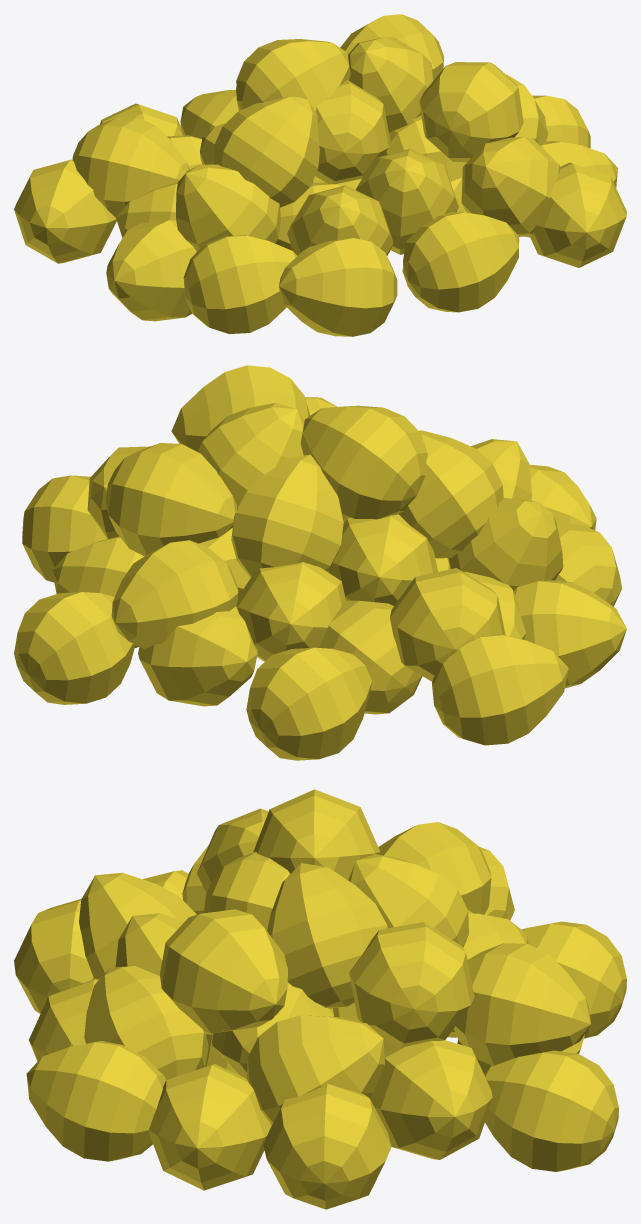
File: popcorn_v1.glb
3 renders of one model, top to bottom at view 1: azimuth 30°, elevation 25°; view 2: azimuth 150°, elevation 25°; view 3: azimuth 270°, elevation 25°, orthographic. The views are drawn at different scales.
Visible parts, largest first — view 1: Sphere.006, Sphere.012, Sphere.011, Sphere.033, Sphere.030, Sphere.025, Sphere.007, Sphere.017, Sphere.016, Sphere.010, Sphere.024, Sphere.034 (+15 smaller); view 2: Sphere.014, Sphere.007, Sphere.034, Sphere.029, Sphere.015, Sphere.032, Sphere.027, Sphere.025, Sphere.004, Sphere.033, Sphere.020, Sphere.010 (+13 smaller); view 3: Sphere.015, Sphere.016, Sphere.030, Sphere.027, Sphere.013, Sphere.029, Sphere.005, Sphere.031, Sphere.003, Sphere.018, Sphere.017, Sphere.034 (+14 smaller).
Part boxes in pixels (x1=…): Sphere.006: x1=402, y1=212, x2=519, y2=312; Sphere.012: x1=279, y1=238, x2=397, y2=336; Sphere.011: x1=183, y1=235, x2=296, y2=333; Sphere.033: x1=213, y1=96, x2=319, y2=207; Sphere.030: x1=419, y1=62, x2=523, y2=161; Sphere.025: x1=72, y1=117, x2=189, y2=217; Sphere.007: x1=14, y1=159, x2=116, y2=263; Sphere.017: x1=461, y1=136, x2=560, y2=236; Sphere.016: x1=529, y1=162, x2=626, y2=267; Sphere.010: x1=106, y1=220, x2=196, y2=321; Sphere.024: x1=176, y1=164, x2=280, y2=251; Sphere.034: x1=236, y1=39, x2=350, y2=111; Sphere.014: x1=246, y1=647, x2=371, y2=760; Sphere.007: x1=432, y1=634, x2=568, y2=745; Sphere.034: x1=300, y1=405, x2=427, y2=519; Sphere.029: x1=105, y1=443, x2=236, y2=556; Sphere.015: x1=14, y1=592, x2=135, y2=704; Sphere.032: x1=231, y1=454, x2=343, y2=577; Sphere.027: x1=111, y1=540, x2=238, y2=648; Sphere.025: x1=390, y1=568, x2=505, y2=681; Sphere.004: x1=138, y1=606, x2=257, y2=706; Sphere.033: x1=398, y1=430, x2=503, y2=558; Sphere.020: x1=236, y1=562, x2=345, y2=661; Sphere.010: x1=513, y1=580, x2=626, y2=688; Sphere.015: x1=484, y1=1050, x2=618, y2=1171; Sphere.016: x1=26, y1=1041, x2=165, y2=1161; Sphere.030: x1=160, y1=909, x2=287, y2=1033; Sphere.027: x1=454, y1=943, x2=590, y2=1065; Sphere.013: x1=263, y1=1083, x2=391, y2=1209; Sphere.029: x1=349, y1=922, x2=474, y2=1047; Sphere.005: x1=149, y1=1064, x2=271, y2=1190; Sphere.031: x1=267, y1=863, x2=387, y2=1008; Sphere.003: x1=370, y1=1040, x2=492, y2=1159; Sphere.018: x1=246, y1=1015, x2=384, y2=1125; Sphere.017: x1=84, y1=966, x2=208, y2=1079; Sphere.034: x1=253, y1=789, x2=380, y2=879.
Bounding box in the file's own units: 1.88 × 0.7984 × 1.61.
